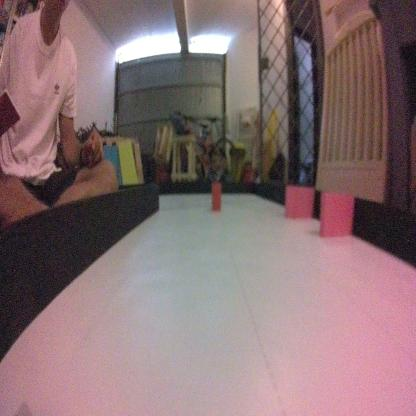magenta: (319, 189, 354, 242), (284, 182, 317, 225)
red: (210, 179, 222, 213)
